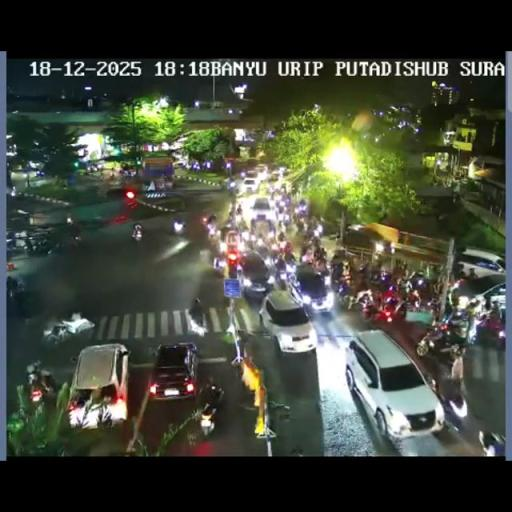Car: (344, 330, 442, 438), (66, 342, 130, 429), (258, 290, 315, 354), (147, 342, 199, 400), (453, 249, 503, 285), (238, 250, 274, 298), (134, 191, 186, 215), (248, 195, 276, 228), (224, 230, 240, 255), (242, 177, 260, 192), (253, 164, 269, 178), (271, 166, 286, 180)
Motorcycle: (266, 182, 322, 248), (416, 316, 470, 358), (434, 374, 468, 429), (394, 271, 435, 313), (230, 341, 256, 404), (470, 303, 504, 348), (371, 286, 403, 321), (22, 232, 60, 255), (302, 242, 328, 274), (336, 275, 359, 309), (26, 371, 48, 404), (477, 429, 505, 454), (42, 323, 72, 346), (200, 400, 218, 436), (186, 307, 209, 335), (267, 399, 291, 424), (367, 264, 393, 286), (446, 276, 468, 300), (273, 266, 291, 290), (6, 274, 24, 298), (330, 258, 346, 284), (203, 213, 219, 237), (212, 249, 227, 273), (430, 278, 445, 301), (67, 229, 84, 248), (281, 246, 297, 266), (275, 206, 290, 226), (172, 214, 186, 234), (254, 230, 268, 250), (234, 208, 246, 230), (358, 260, 371, 280), (310, 220, 324, 238), (6, 230, 18, 251), (295, 216, 308, 234), (266, 180, 280, 196), (394, 260, 407, 274), (296, 201, 308, 216), (132, 226, 142, 242), (226, 179, 237, 193), (11, 190, 28, 199), (163, 174, 173, 189), (279, 183, 287, 196), (278, 230, 286, 242), (240, 170, 246, 178), (66, 216, 72, 224)
